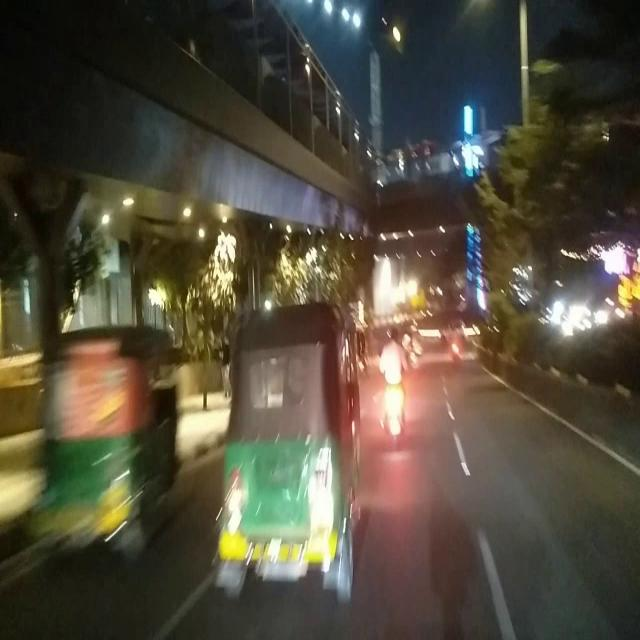auto: (218, 304, 366, 610), (34, 319, 187, 569)
motorcycle: (382, 388, 408, 445)
person: (380, 324, 407, 394)
road: (0, 439, 640, 640), (355, 350, 558, 440)
sidewalk: (0, 438, 33, 548), (182, 390, 226, 455)
